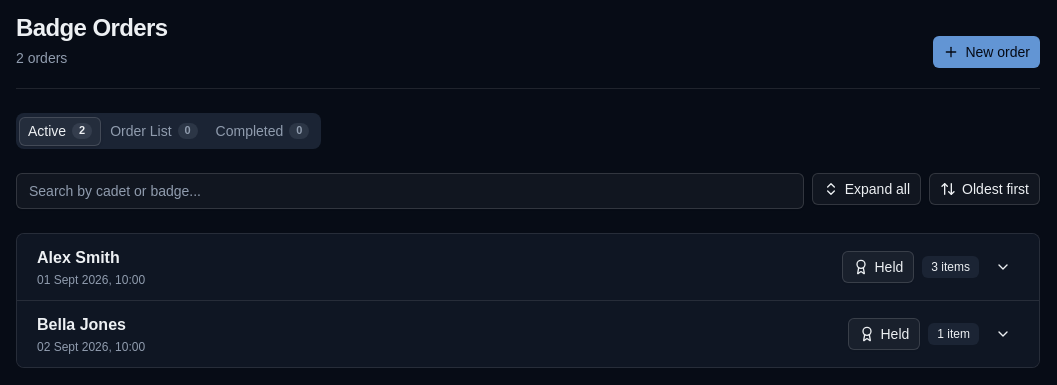
Test case: search › a search nothing matches says so
Expected: the link "Alex Smith" is shown, top-left (37, 246), bottom-right (120, 270)
Type "gliding" into the field labelled "Search by cadet or badge" at (410, 191), box top-left (16, 173), bottom-right (804, 209)
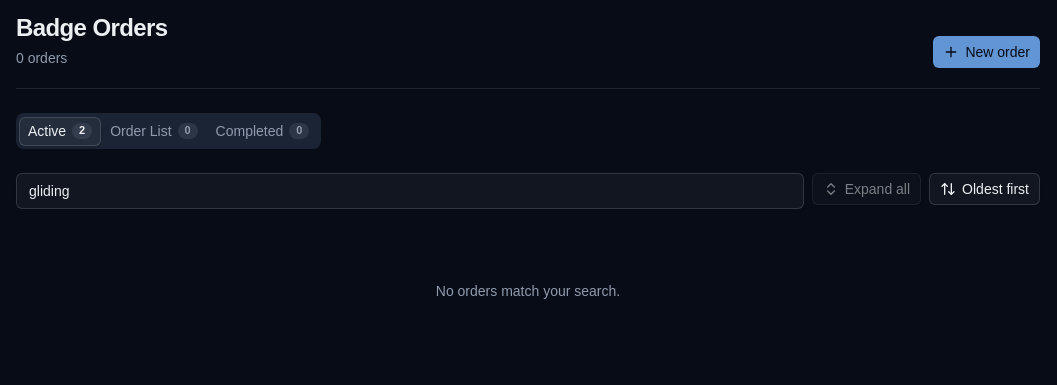
Result: the text "No orders match your search." is shown at top-left (436, 283), bottom-right (620, 299)
